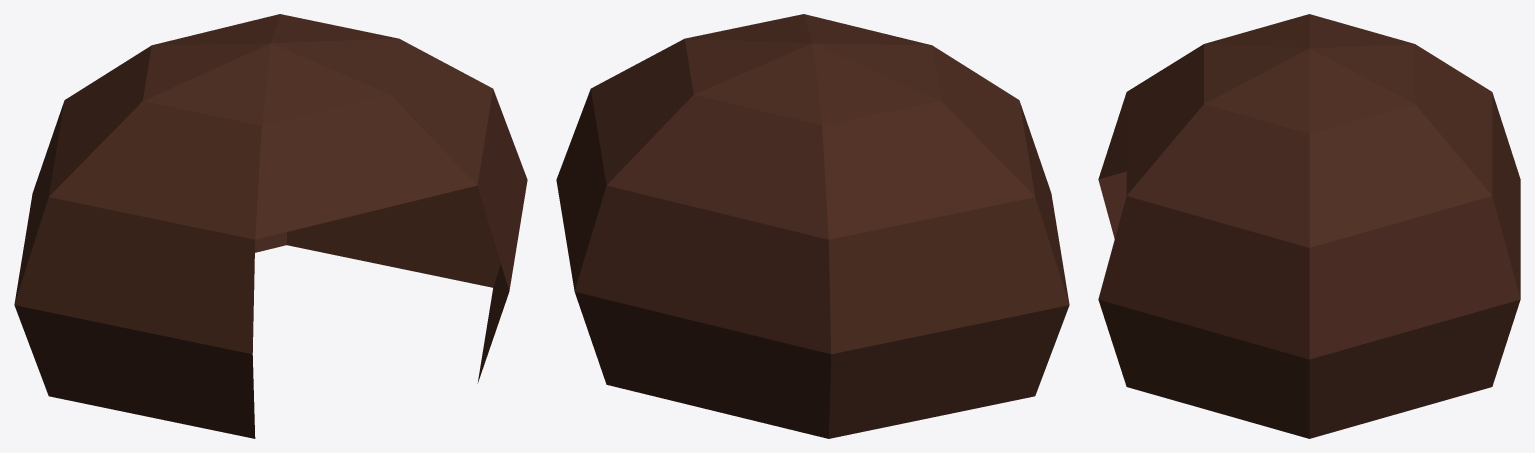
Rendered from hair1.fbx.
The picture shows the model from 3 angles, left to right: view 1: azimuth 30°, elevation 25°; view 2: azimuth 150°, elevation 25°; view 3: azimuth 270°, elevation 25°; orthographic projection. The views are drawn at different scales.
Parts seen in each view (by area): view 1: pasted__pSphere1, pasted__pasted__pSphere1; view 2: pasted__pSphere1; view 3: pasted__pSphere1, pasted__pasted__pSphere1.
Part boxes in pixels (left/top/right/bottom): pasted__pSphere1: left=14, top=14, right=527, bottom=438; pasted__pasted__pSphere1: left=255, top=187, right=508, bottom=377; pasted__pSphere1: left=556, top=14, right=1069, bottom=438; pasted__pSphere1: left=1098, top=14, right=1520, bottom=438; pasted__pasted__pSphere1: left=1099, top=97, right=1126, bottom=225.
Size of the model in its own units: 4.57 by 2.54 by 3.39.
